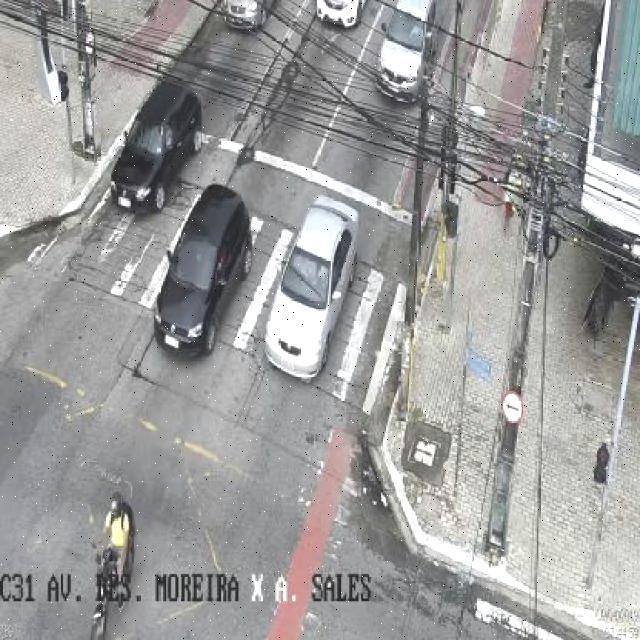Car: (261, 195, 360, 378), (153, 184, 253, 358), (110, 81, 203, 210), (375, 2, 444, 102), (312, 0, 371, 31), (221, 0, 273, 32)
Cycle: (86, 537, 130, 640)
